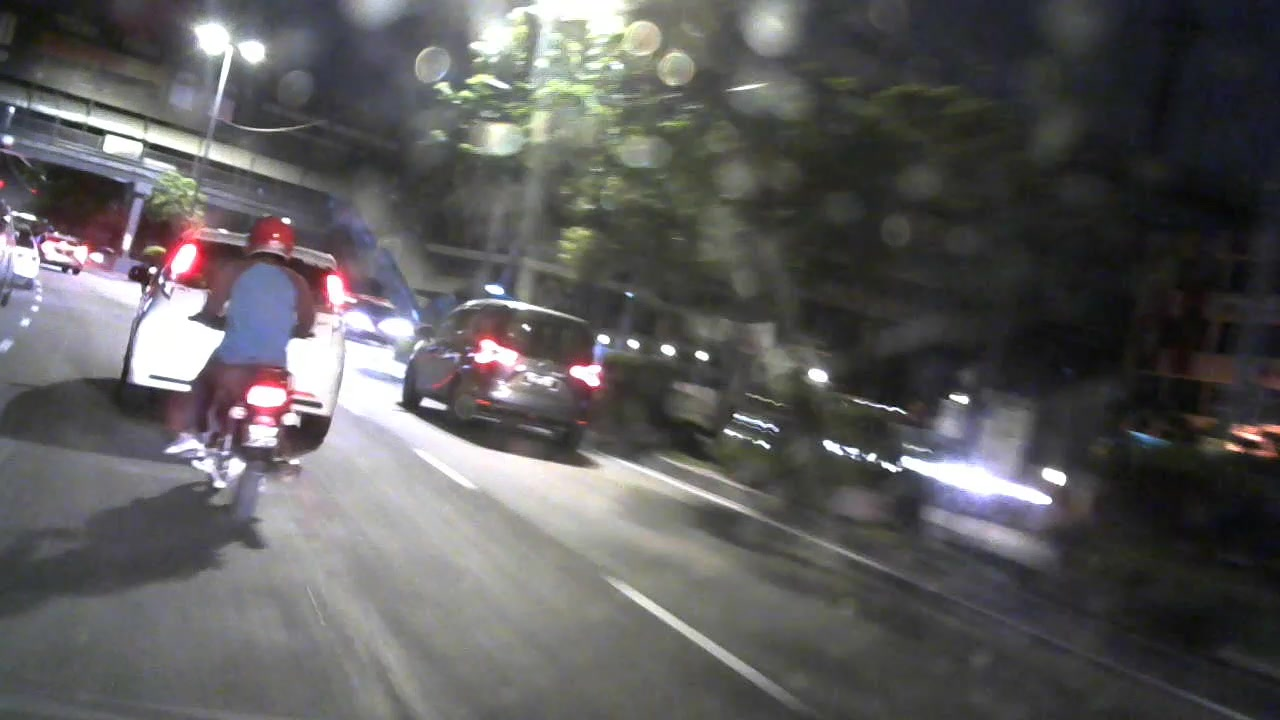Car: (133, 222, 352, 438), (404, 292, 600, 455), (343, 297, 418, 342), (10, 224, 45, 284), (45, 229, 89, 276)
